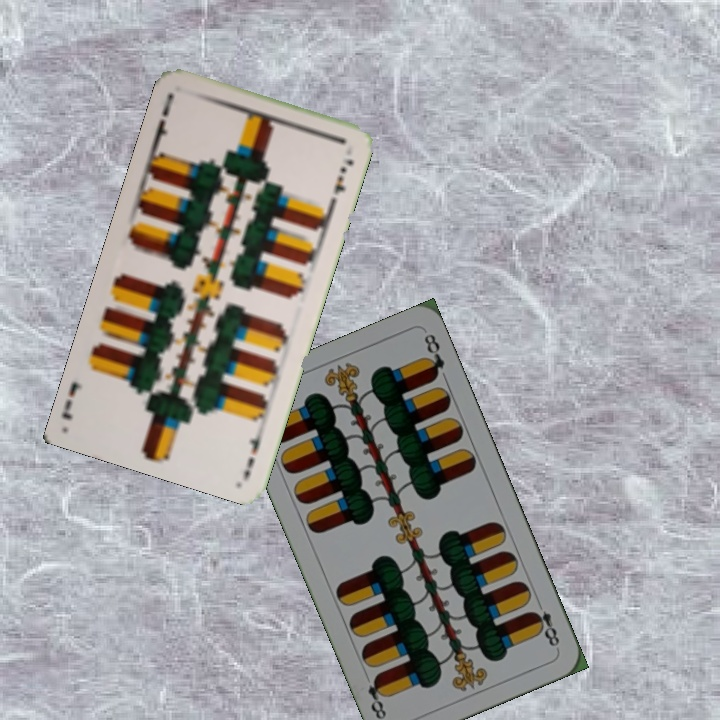E7: (150, 88, 177, 146), (240, 421, 267, 479)
E8: (527, 595, 562, 649)
